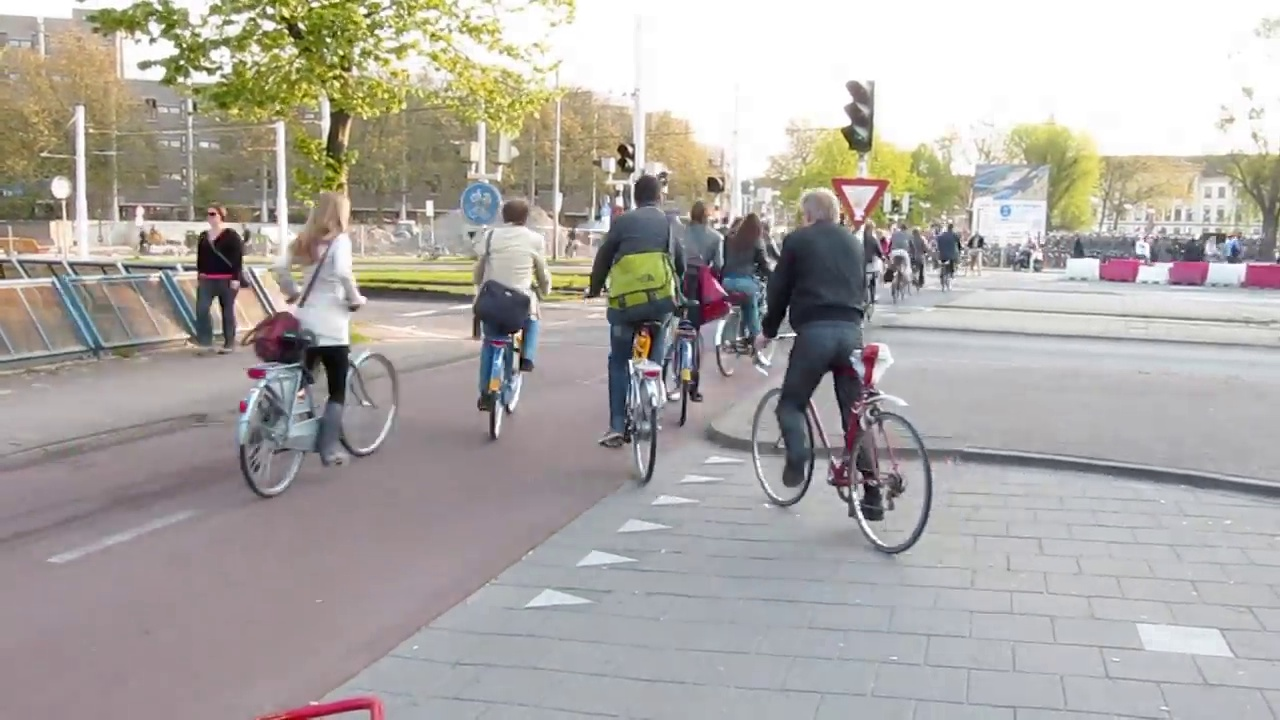cyclist_back: (746, 193, 940, 557), (225, 169, 409, 498), (584, 157, 681, 500), (468, 185, 541, 457), (886, 221, 910, 305), (935, 221, 955, 288)
